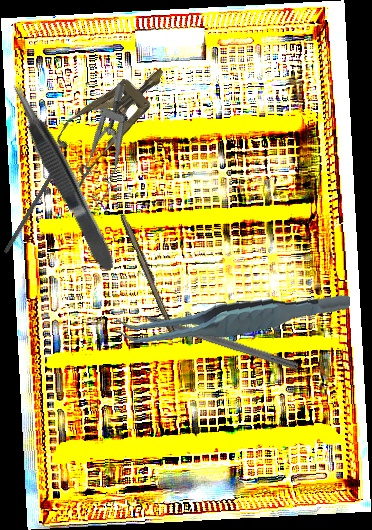Hook Surgical: (122, 304, 300, 371), (3, 141, 75, 255)
Scalpel Handle: (117, 212, 181, 338)
Speculum: (32, 48, 183, 198), (58, 82, 160, 204)
Tissue Forceps: (5, 78, 120, 276), (114, 275, 351, 361)
